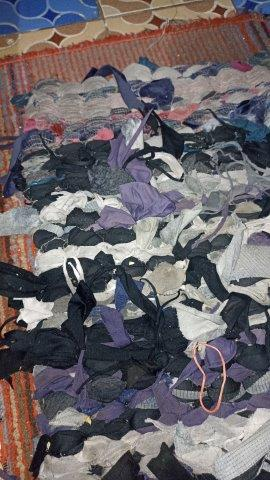karet: (193, 343, 226, 413)
